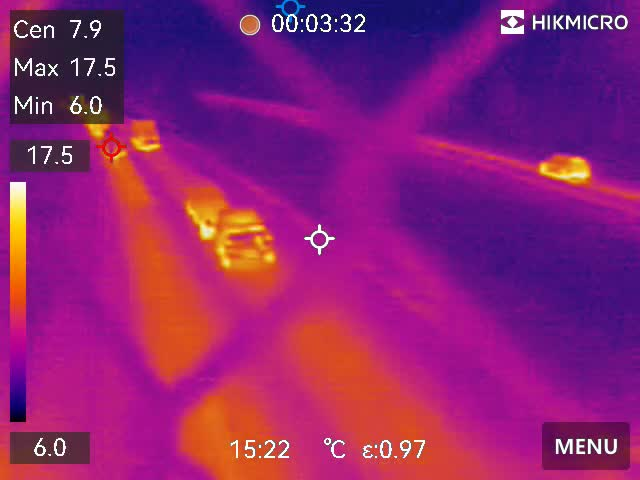largeCar: (535, 149, 595, 184)
